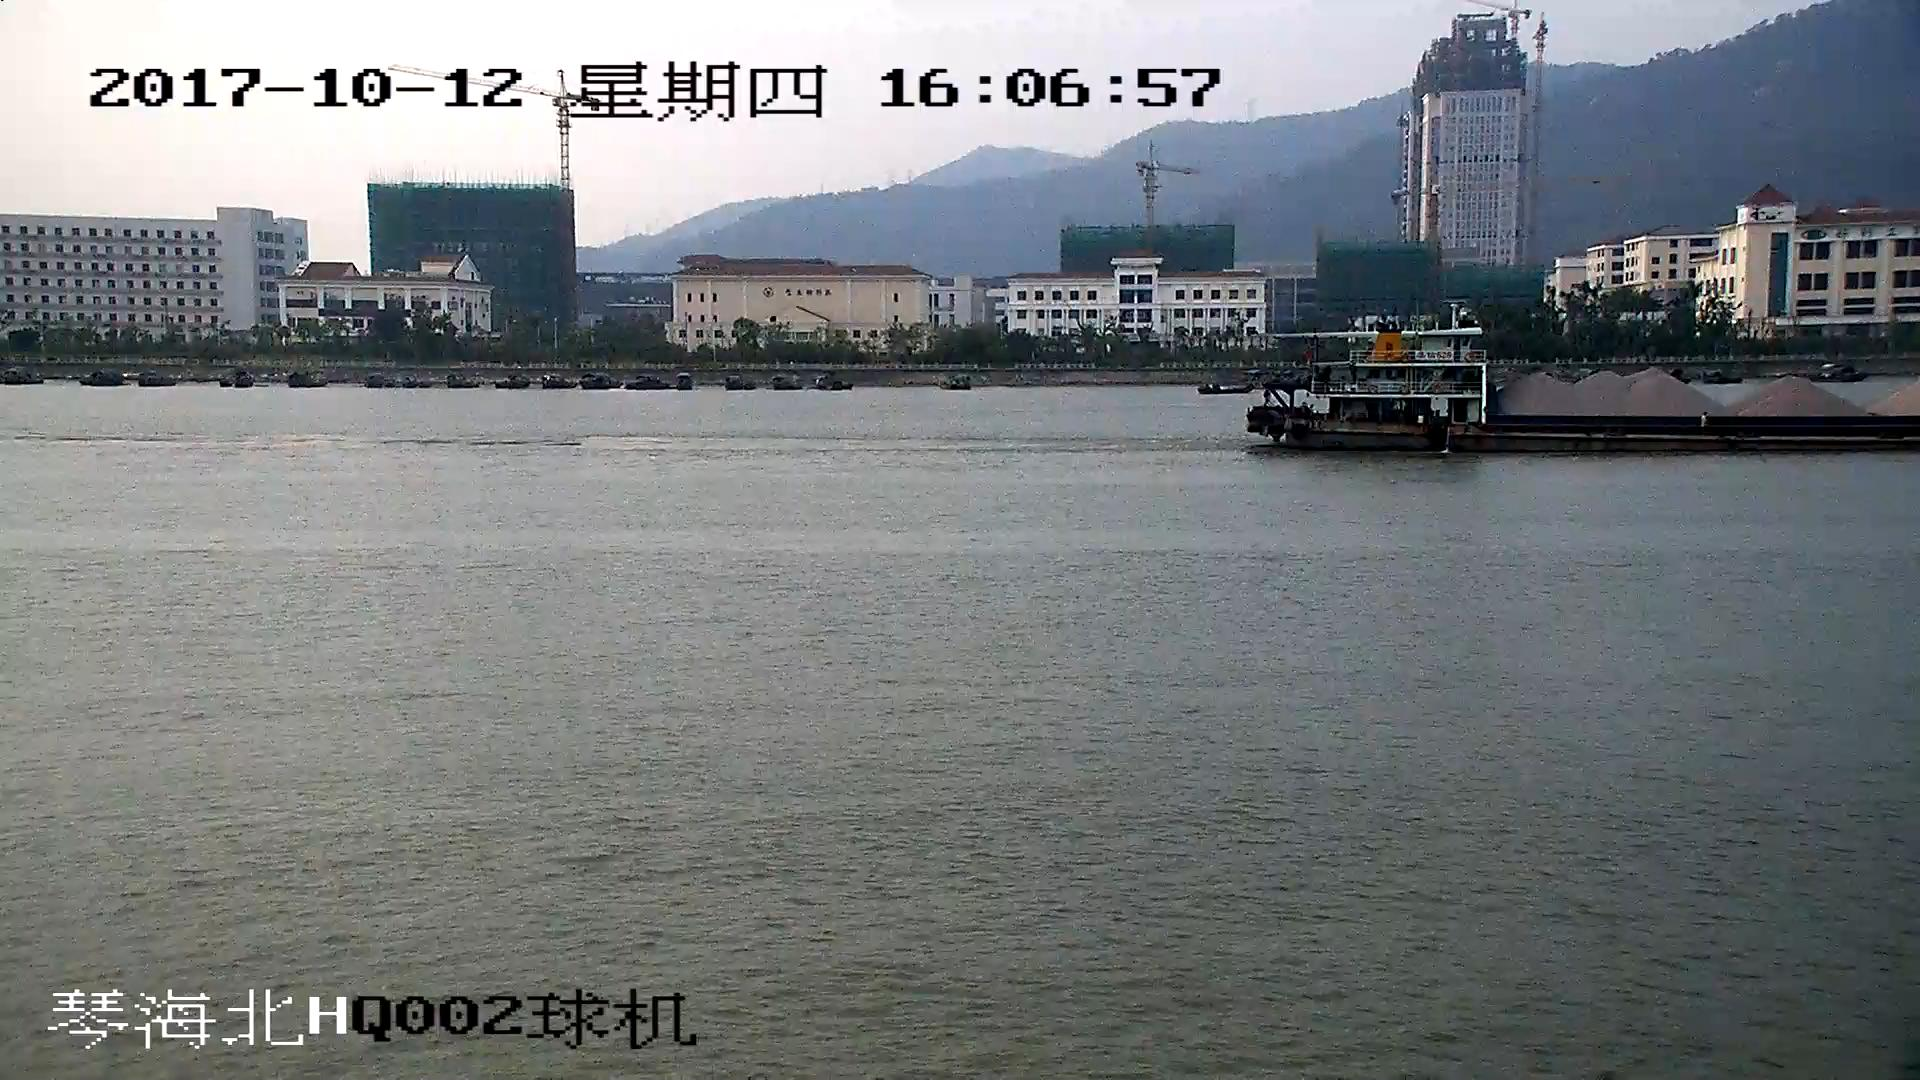ore carrier: (1249, 327, 1920, 454)
